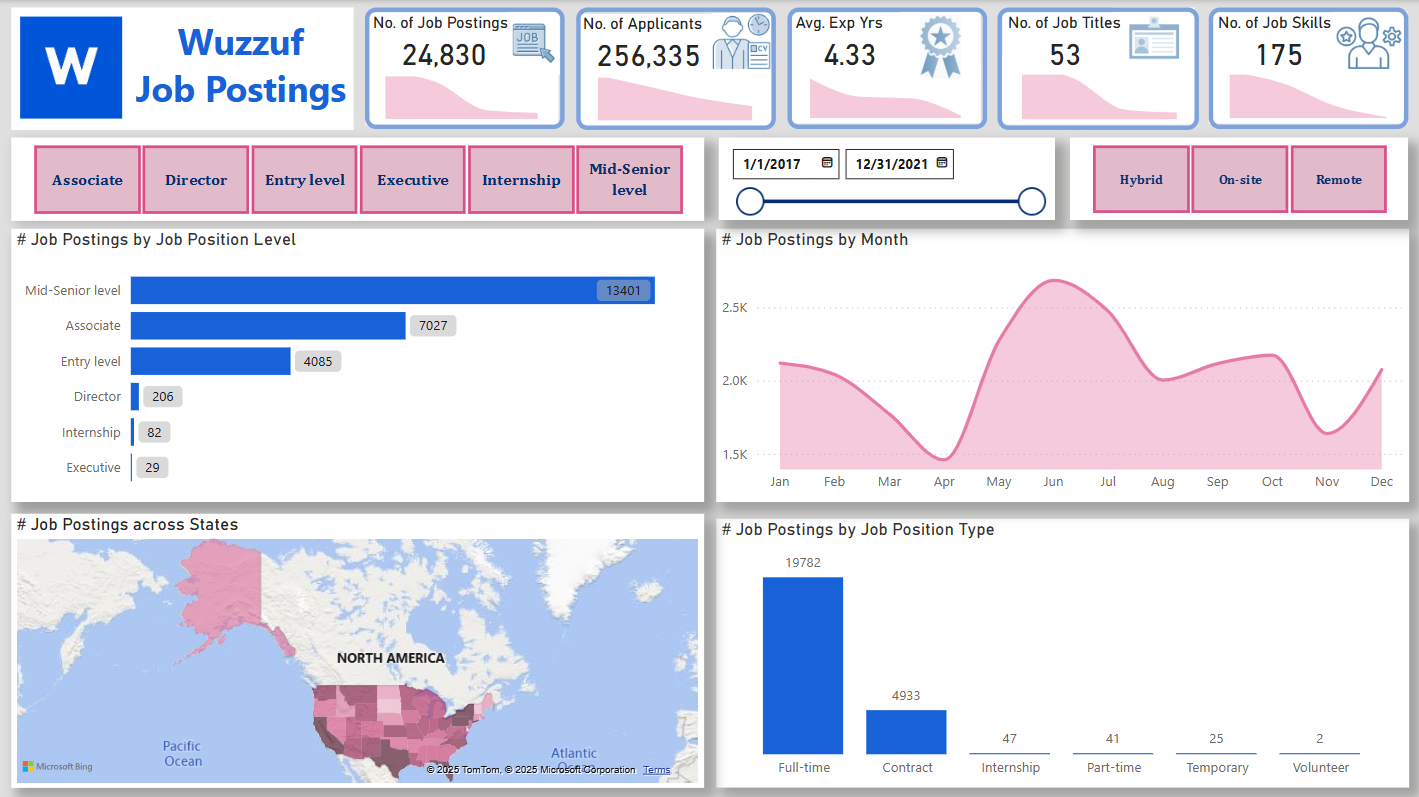

The dashboard page shown, as its layout file describes it:
{"tool":"powerbi","page":{"name":"Overview","canvas":[1280,720],"ordinal":0},"visuals":[{"type":"shape","box":[10,6.2,309,110],"z":0},{"type":"areaChart","fields":{"Y":["CountNonNull(Wuzzuf-Jobs-Posting.Job Title)"],"Category":["Date-Dim.Quarter"]},"box":[902.8,50.7,177,62],"z":1000},{"type":"image","box":[1002.6,6.2,74.6,54.7],"z":2000},{"type":"areaChart","fields":{"Category":["Date-Dim.Quarter"],"Y":["Avg(Wuzzuf-Jobs-Posting.Years of Experience)"]},"box":[712.3,55.2,172,56.4],"z":3000},{"type":"card","title":"Avg. Exp Yrs","fields":{"Values":["All Measures.Avg. Experience"]},"box":[712.8,11.2,108.2,57.2],"z":4000},{"type":"shape","box":[10,124.4,624.5,65.9],"z":5000},{"type":"areaChart","fields":{"Category":["Date-Dim.Quarter"],"Y":["All Measures.# Job Skills"]},"box":[1089.7,51,179.1,61],"z":6000},{"type":"areaChart","fields":{"Y":["All Measures.# Job Postings"],"Category":["Date-Dim.Quarter"]},"box":[329.6,54.7,174.2,57.2],"z":7000},{"type":"areaChart","fields":{"Y":["All Measures.# Applicants"],"Category":["Date-Dim.Quarter"]},"box":[521,57.2,176,56],"z":8000},{"type":"card","title":"No. of Job Skills","fields":{"Values":["All Measures.# Job Skills"]},"box":[1093.3,11.3,119.5,56.4],"z":9000},{"type":"card","title":"No. of Job Postings","fields":{"Values":["All Measures.# Job Postings"]},"box":[330.9,11.2,138.1,57.2],"z":10000},{"type":"card","title":"No. of Applicants","fields":{"Values":["All Measures.# Applicants"]},"box":[520.9,11.9,128.7,57.2],"z":11000},{"type":"card","title":"No. of Job Titles","fields":{"Values":["All Measures.# Job Titles"]},"box":[903.9,11.3,112,56.4],"z":12000},{"type":"clusteredBarChart","title":"# Job Postings by Job Position Level","fields":{"Y":["CountNonNull(Wuzzuf-Jobs-Posting.Job Posting ID)"],"Category":["Wuzzuf-Jobs-Posting.Job Position Level"]},"box":[10,206,624.5,246.3],"z":13000},{"type":"columnChart","title":"# Job Postings by Job Position Type","fields":{"Category":["Wuzzuf-Jobs-Posting.Job Position Type"],"Y":["CountNonNull(Wuzzuf-Jobs-Posting.Job Posting ID)"]},"box":[645.6,467.7,625,242.6],"z":14000},{"type":"areaChart","title":"# Job Postings by Month","fields":{"Y":["CountNonNull(Wuzzuf-Jobs-Posting.Job Posting ID)"],"Category":["Date-Dim.Mon"]},"box":[645.6,206.5,625,246.3],"z":16000},{"type":"image","box":[10,10,108.2,102],"z":17000},{"type":"textbox","box":[112.7,10.1,208.5,98.1],"z":18000},{"type":"slicer","fields":{"Values":["Wuzzuf-Jobs-Posting.Job Position Level"]},"box":[10.1,124,624.4,75.5],"z":19000},{"type":"image","box":[457.8,10,47,57.2],"z":20000},{"type":"image","box":[636.9,5,63.4,67.2],"z":21000},{"type":"image","box":[811.8,9.5,72.7,66.8],"z":22000},{"type":"shape","box":[329.6,6.2,180.4,109.5],"z":23000},{"type":"shape","box":[520,6.2,180,110.7],"z":24000},{"type":"image","box":[1200.4,10,68.4,57.2],"z":25000},{"type":"shape","box":[710.3,6.2,180.4,109.5],"z":26000},{"type":"shape","box":[899.4,6.8,181.5,110.5],"z":27000},{"type":"shape","box":[1089.9,6.8,180.3,109.3],"z":28000},{"type":"slicer","fields":{"Values":["Wuzzuf-Jobs-Posting.Job Posting Date"]},"box":[648.1,124,303.2,74.4],"z":29000},{"type":"slicer","fields":{"Values":["Wuzzuf-Jobs-Posting.Work Mode"]},"box":[965.3,124.4,304.8,74.6],"z":30000},{"type":"filledMap","title":"# Job Postings across States","fields":{"Series":["Job Location (2).Count"],"Category":["Job Location (2).state_name"]},"box":[10,462.8,624.5,247.5],"z":31000}]}

Visuals, with their boxes in screenshot pixels (x1, y1, x2, y2), scaled from the page's 1280x720 canvas onto the 1419x797 screenshot:
shape: [x1=11, y1=7, x2=354, y2=129]
areaChart - CountNonNull(Wuzzuf-Jobs-Posting.Job Title) x Date-Dim.Quarter: [x1=1001, y1=56, x2=1197, y2=125]
image: [x1=1111, y1=7, x2=1194, y2=67]
areaChart - Date-Dim.Quarter x Avg(Wuzzuf-Jobs-Posting.Years of Experience): [x1=790, y1=61, x2=980, y2=124]
"Avg. Exp Yrs" card: [x1=790, y1=12, x2=910, y2=76]
shape: [x1=11, y1=138, x2=703, y2=211]
areaChart - Date-Dim.Quarter x All Measures.# Job Skills: [x1=1208, y1=56, x2=1407, y2=124]
areaChart - All Measures.# Job Postings x Date-Dim.Quarter: [x1=365, y1=61, x2=559, y2=124]
areaChart - All Measures.# Applicants x Date-Dim.Quarter: [x1=578, y1=63, x2=773, y2=125]
"No. of Job Skills" card: [x1=1212, y1=13, x2=1345, y2=75]
"No. of Job Postings" card: [x1=367, y1=12, x2=520, y2=76]
"No. of Applicants" card: [x1=577, y1=13, x2=720, y2=76]
"No. of Job Titles" card: [x1=1002, y1=13, x2=1126, y2=75]
"# Job Postings by Job Position Level" clusteredBarChart: [x1=11, y1=228, x2=703, y2=501]
"# Job Postings by Job Position Type" columnChart: [x1=716, y1=518, x2=1409, y2=786]
"# Job Postings by Month" areaChart: [x1=716, y1=229, x2=1409, y2=501]
image: [x1=11, y1=11, x2=131, y2=124]
textbox: [x1=125, y1=11, x2=356, y2=120]
slicer - Wuzzuf-Jobs-Posting.Job Position Level: [x1=11, y1=137, x2=703, y2=221]
image: [x1=508, y1=11, x2=560, y2=74]
image: [x1=706, y1=6, x2=776, y2=80]
image: [x1=900, y1=11, x2=981, y2=84]
shape: [x1=365, y1=7, x2=565, y2=128]
shape: [x1=576, y1=7, x2=776, y2=129]
image: [x1=1331, y1=11, x2=1407, y2=74]
shape: [x1=787, y1=7, x2=987, y2=128]
shape: [x1=997, y1=8, x2=1198, y2=130]
shape: [x1=1208, y1=8, x2=1408, y2=129]
slicer - Wuzzuf-Jobs-Posting.Job Posting Date: [x1=718, y1=137, x2=1055, y2=220]
slicer - Wuzzuf-Jobs-Posting.Work Mode: [x1=1070, y1=138, x2=1408, y2=220]
"# Job Postings across States" filledMap: [x1=11, y1=512, x2=703, y2=786]
